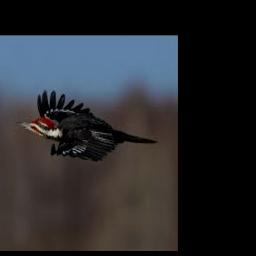Woodpecker: (15, 89, 157, 162)
